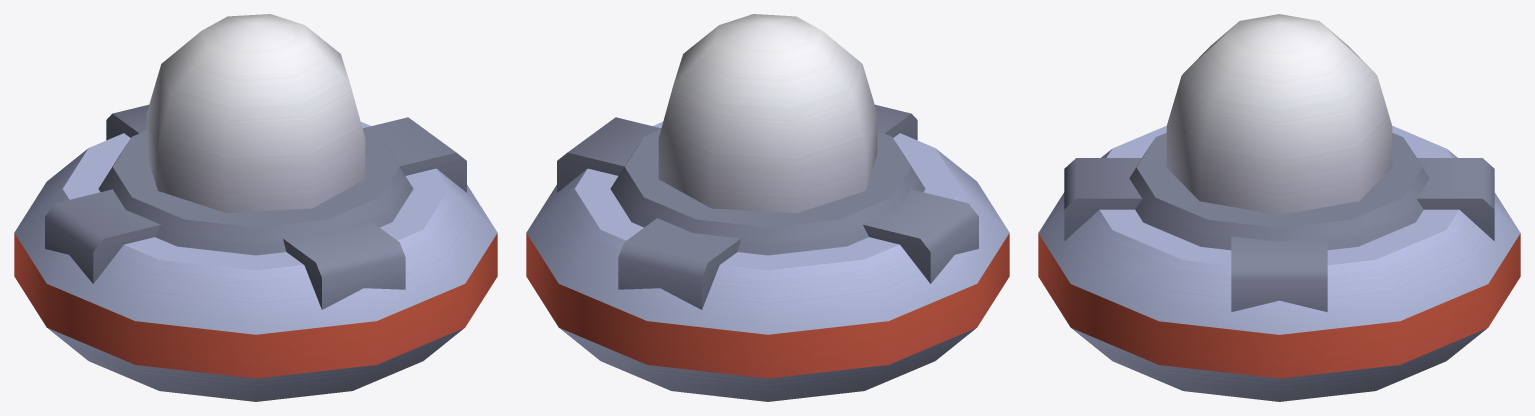
File: p-tower-enemy-ufo-a.glb
3 views of the same model, side by side, from view 1: azimuth 30°, elevation 25°; view 2: azimuth 150°, elevation 25°; view 3: azimuth 270°, elevation 25° (orthographic).
Visible parts, largest first — view 1: enemy-ufo-a; view 2: enemy-ufo-a; view 3: enemy-ufo-a.
Part boxes in pixels (box(x1,y1,x2,y2)): enemy-ufo-a: box(14, 14, 497, 401); enemy-ufo-a: box(526, 14, 1009, 401); enemy-ufo-a: box(1038, 14, 1520, 401).
Size of the model in its own units: 1 by 0.6779 by 1.
1 material, 1 textured.
